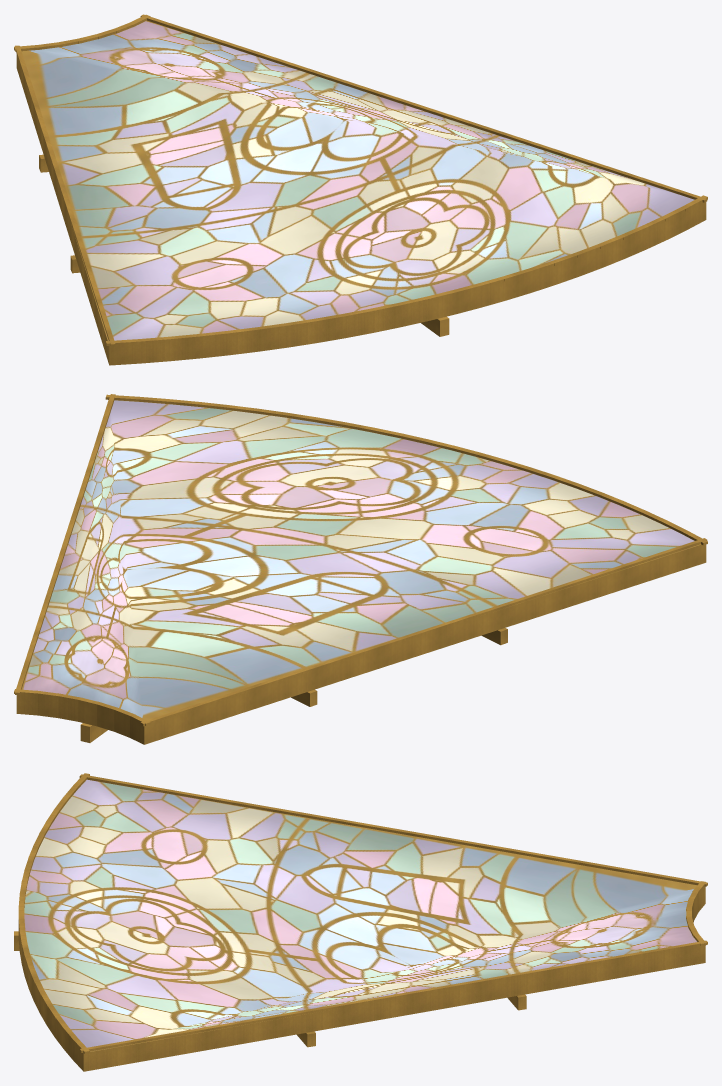
The model's file is lb_wedge_7.glb.
3 renders of one model, top to bottom at view 1: azimuth 30°, elevation 25°; view 2: azimuth 150°, elevation 25°; view 3: azimuth 270°, elevation 25°, orthographic. The views are drawn at different scales.
Visible parts, largest first — view 1: lb_wedge_7; view 2: lb_wedge_7; view 3: lb_wedge_7.
Boxes of the visible parts, left/top/right/bottom form: lb_wedge_7: left=14, top=14, right=707, bottom=365; lb_wedge_7: left=14, top=394, right=707, bottom=744; lb_wedge_7: left=14, top=773, right=707, bottom=1071.
Bounding box in the file's own units: 11.56 × 1.35 × 12.17.
Materials: 4 (3 with a texture image).
